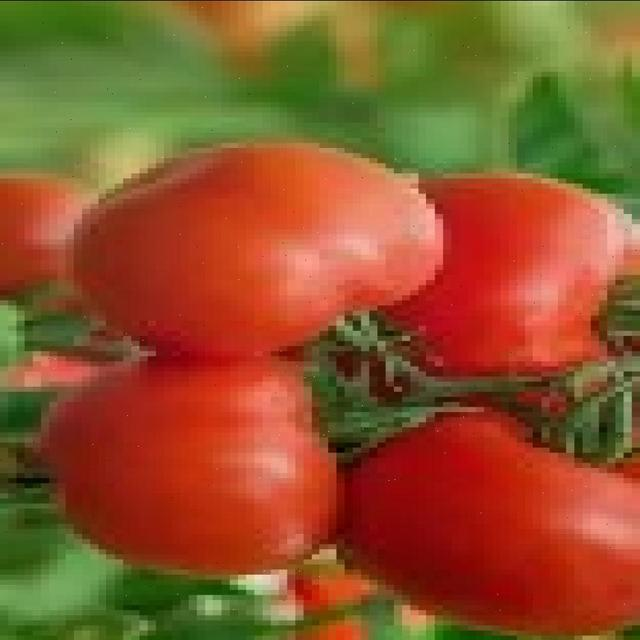Healthy Fruit: (25, 92, 347, 354)
